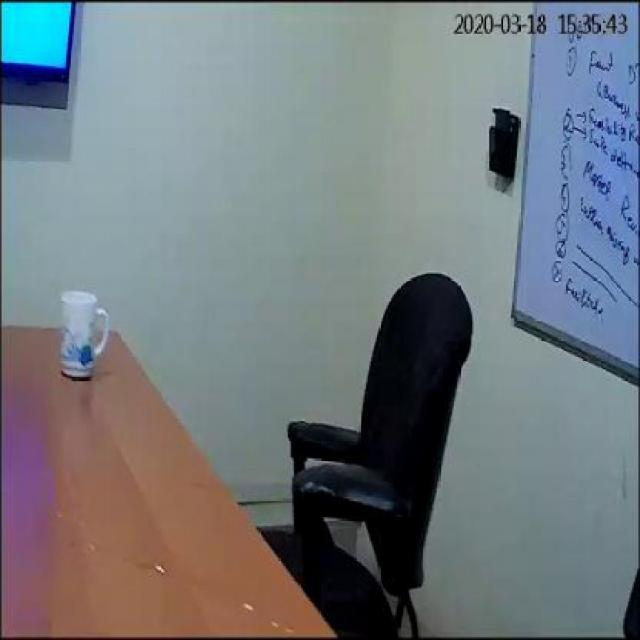spill: (49, 477, 318, 635)
